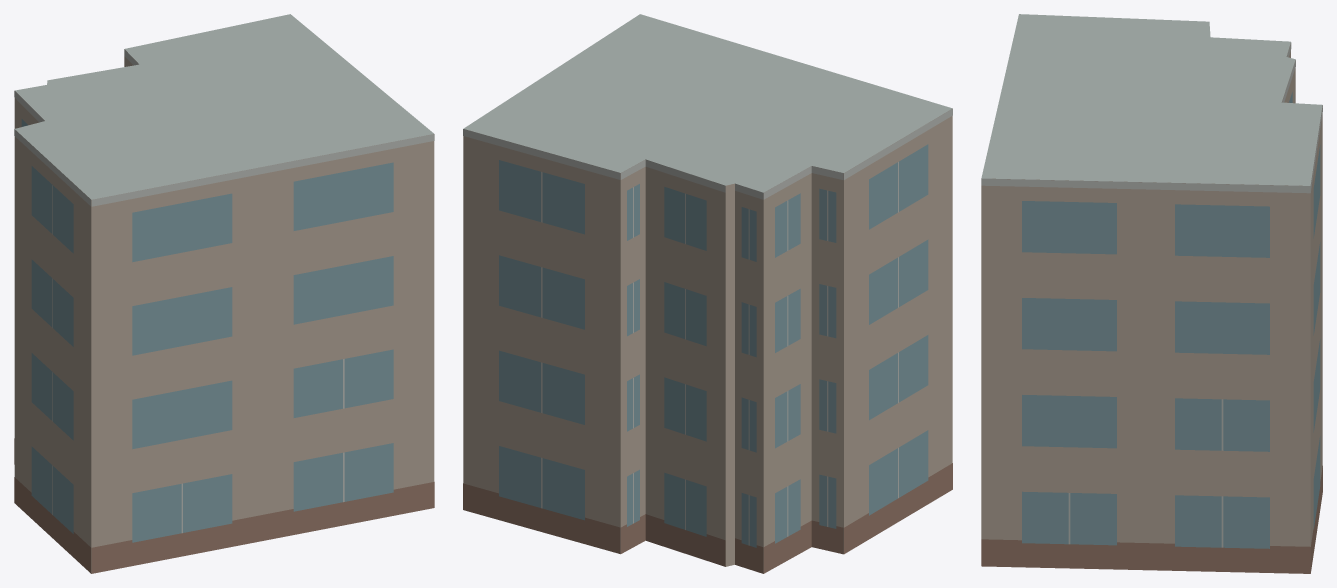
Rendered from survey-upis-32794292.glb.
The picture shows the model from 3 angles, left to right: view 1: azimuth 30°, elevation 25°; view 2: azimuth 150°, elevation 25°; view 3: azimuth 270°, elevation 25°; orthographic projection. The views are drawn at different scales.
Visible parts, largest first — view 1: survey-upis-32794292.tmp; view 2: survey-upis-32794292.tmp; view 3: survey-upis-32794292.tmp.
Part boxes in pixels (x1,y1,x2,y2): survey-upis-32794292.tmp: (14, 14, 434, 573); survey-upis-32794292.tmp: (463, 14, 952, 573); survey-upis-32794292.tmp: (981, 14, 1322, 573).
Bounding box in the file's own units: 12.37 × 13 × 10.38.
